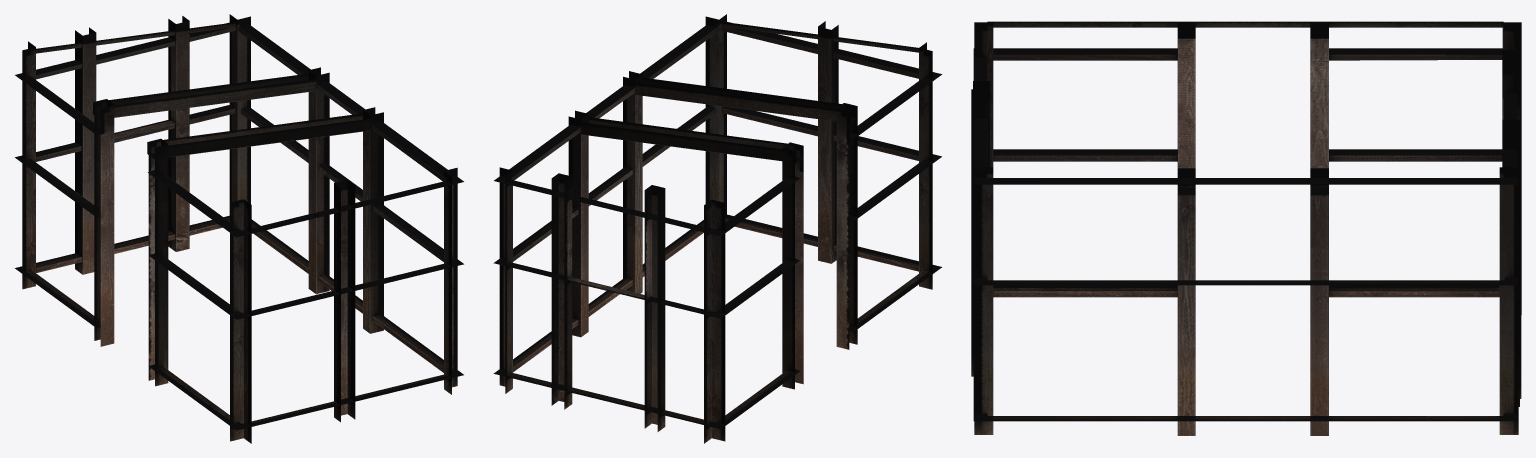
File: Shed_Interior_Framework.fbx
3 renders of one model, left to right at view 1: azimuth 30°, elevation 25°; view 2: azimuth 150°, elevation 25°; view 3: azimuth 270°, elevation 25°, orthographic. The views are drawn at different scales.
Visible parts, largest first — view 1: Framework; view 2: Framework; view 3: Framework.
Boxes of the visible parts, left/top/right/bottom form: Framework: left=15, top=14, right=463, bottom=443; Framework: left=493, top=14, right=941, bottom=443; Framework: left=971, top=21, right=1521, bottom=435.
Size of the model in its own units: 4.78 by 4.74 by 8.07.
